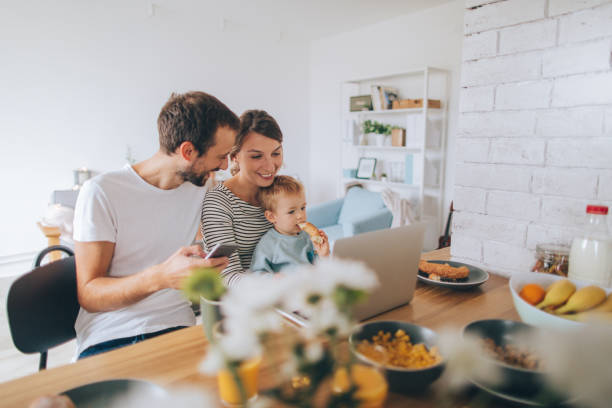without mask: (154, 111, 235, 190), (238, 122, 286, 187), (264, 184, 310, 242)
